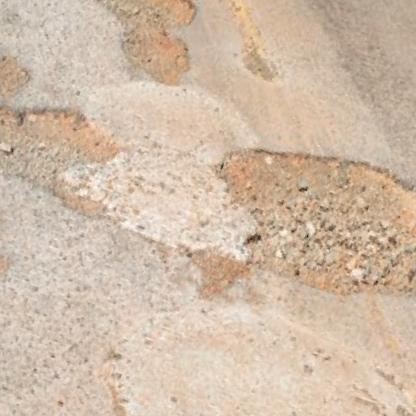pothole: (187, 115, 416, 336), (0, 73, 137, 227), (68, 0, 217, 91), (0, 49, 34, 102)
